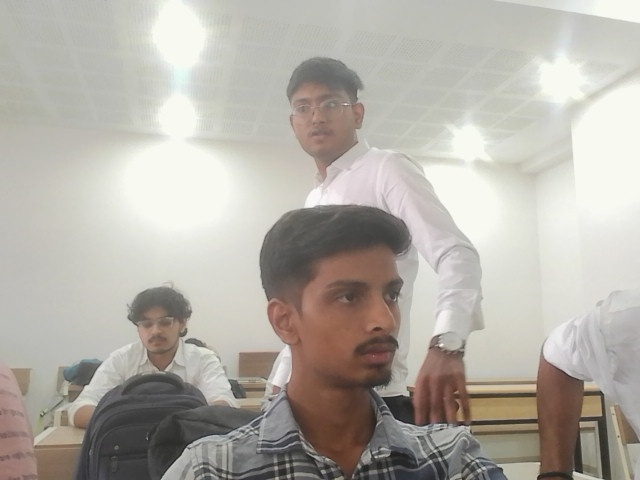light_on: (138, 14, 210, 149), (405, 127, 531, 181), (536, 67, 601, 110)
person: (297, 45, 633, 475), (159, 203, 507, 479), (64, 282, 238, 433)
